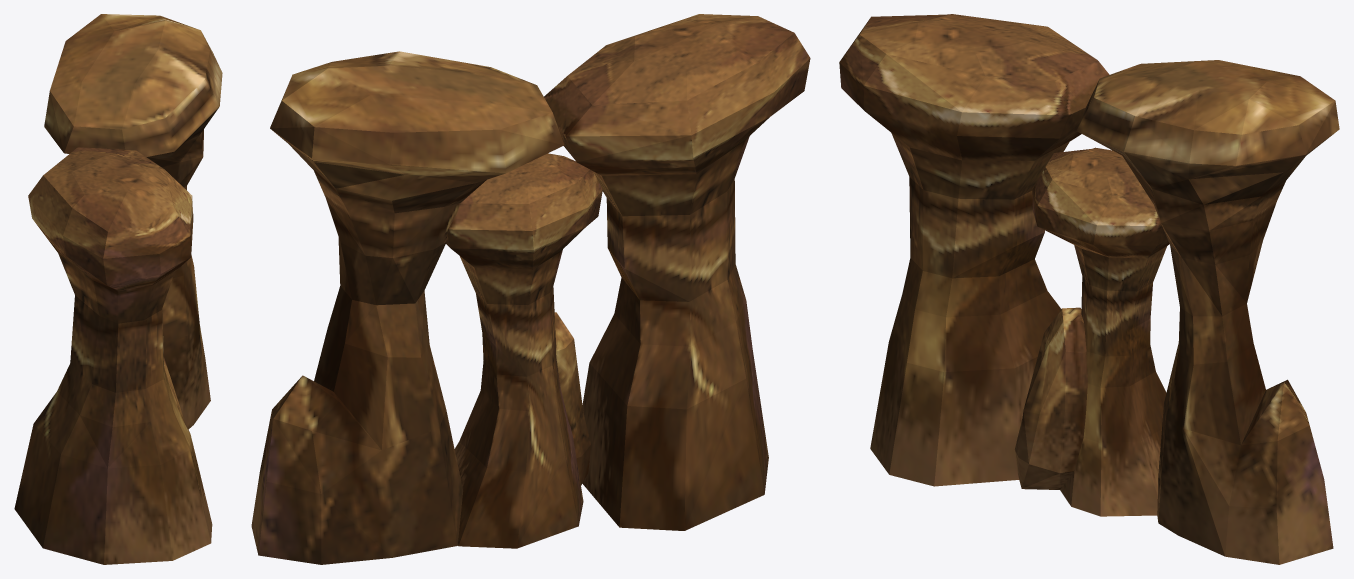
Rendered from ShiTou05.FBX.
The picture shows the model from 3 angles, left to right: view 1: azimuth 30°, elevation 25°; view 2: azimuth 150°, elevation 25°; view 3: azimuth 270°, elevation 25°; orthographic projection. The views are drawn at different scales.
Parts seen in each view (by area): view 1: ShiTou05; view 2: ShiTou05; view 3: ShiTou05.
Part boxes in pixels (bbox=[...]): ShiTou05: bbox=[14, 14, 222, 564]; ShiTou05: bbox=[251, 14, 810, 564]; ShiTou05: bbox=[839, 14, 1339, 564].
Size of the model in its own units: 190 by 237 by 246.
